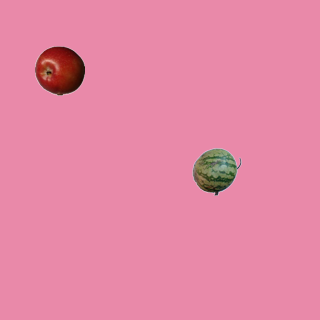Apple Braeburn: (34, 45, 84, 95)
Watermelon: (191, 146, 241, 196)
